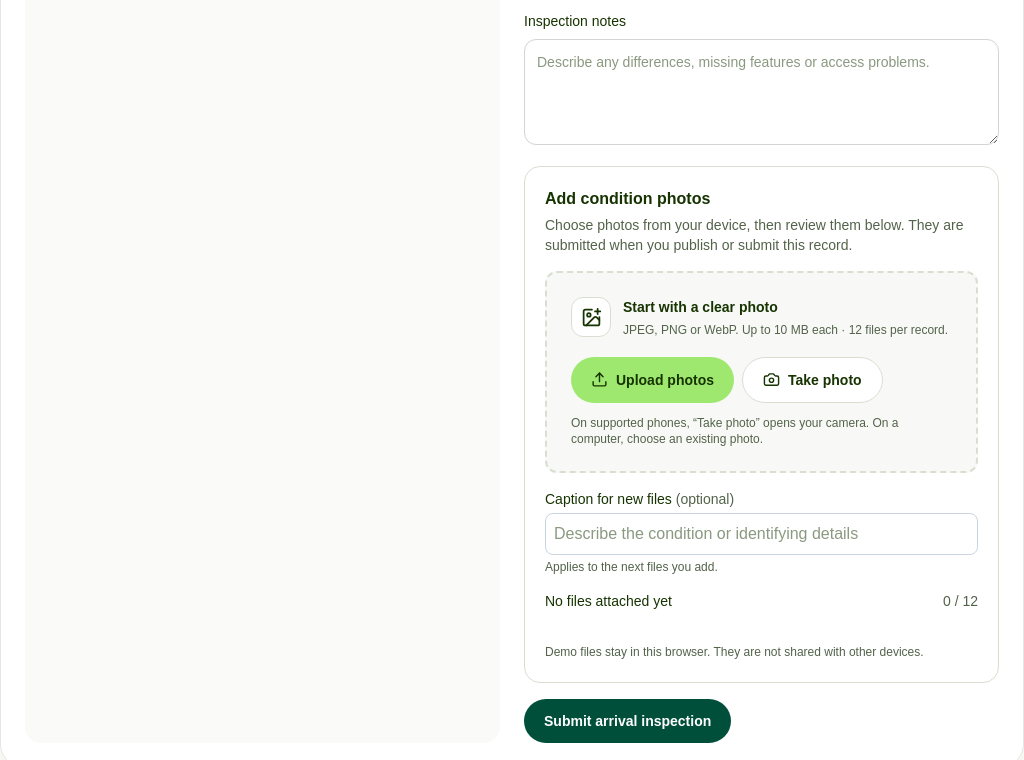
Scenario: ArrivalInspectionPanel › requires all answers before finalizing photos
(page scrolled)
Step 1. Click the button "Submit arrival inspection" → (628, 721), box [524,699,731,743]
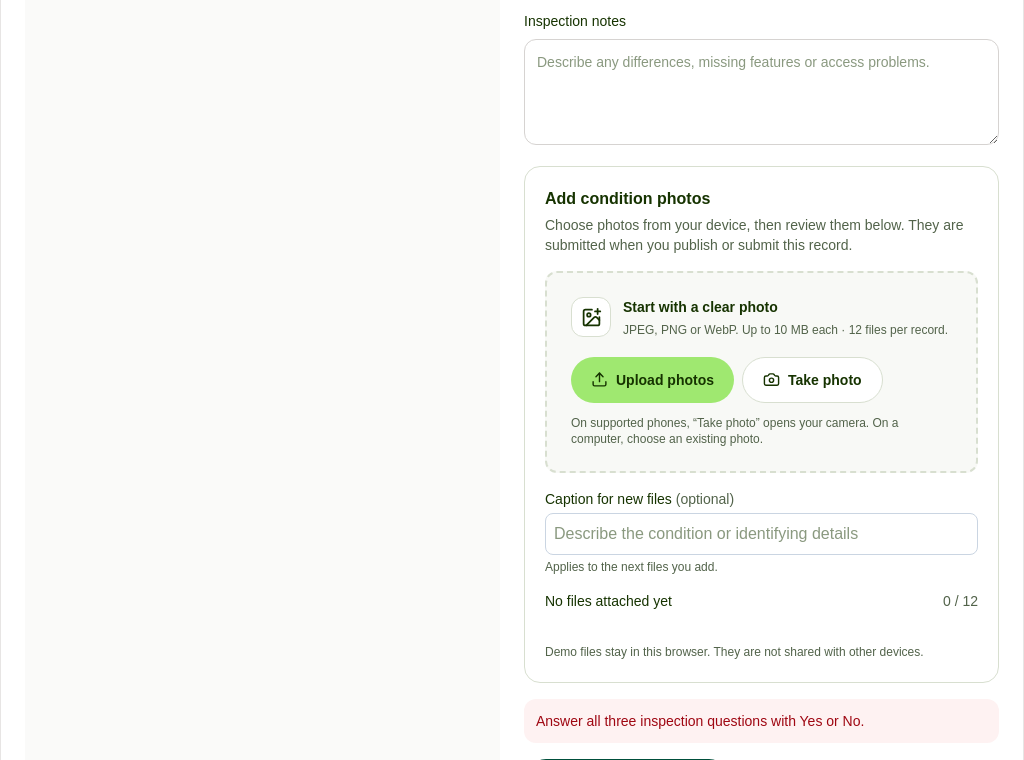
Now the message shows "all three", box [536,713,864,729]
